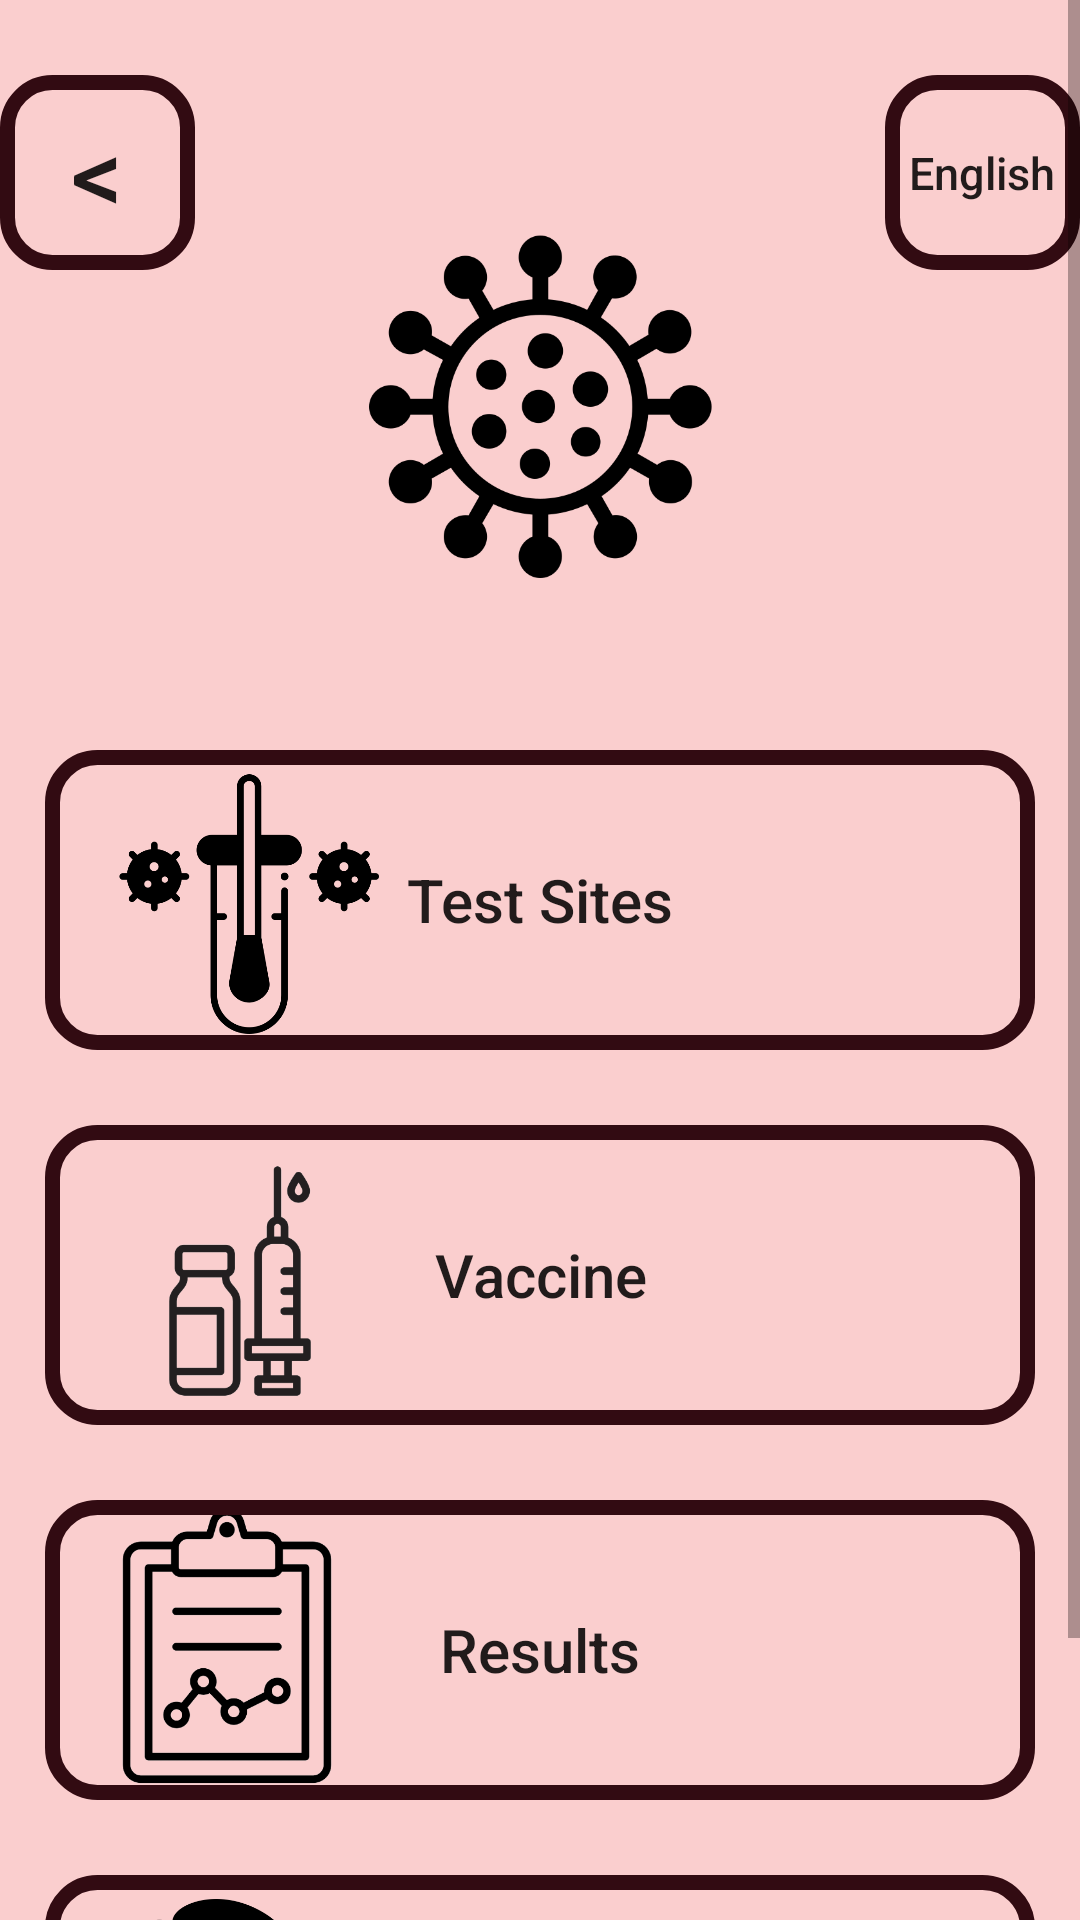

Icon bounding boxes for this 1080x1920 phone screenshot, format (x1, y1, x2, y2):
covid: (369, 235, 712, 578)
covidtest: (119, 774, 379, 1034)
